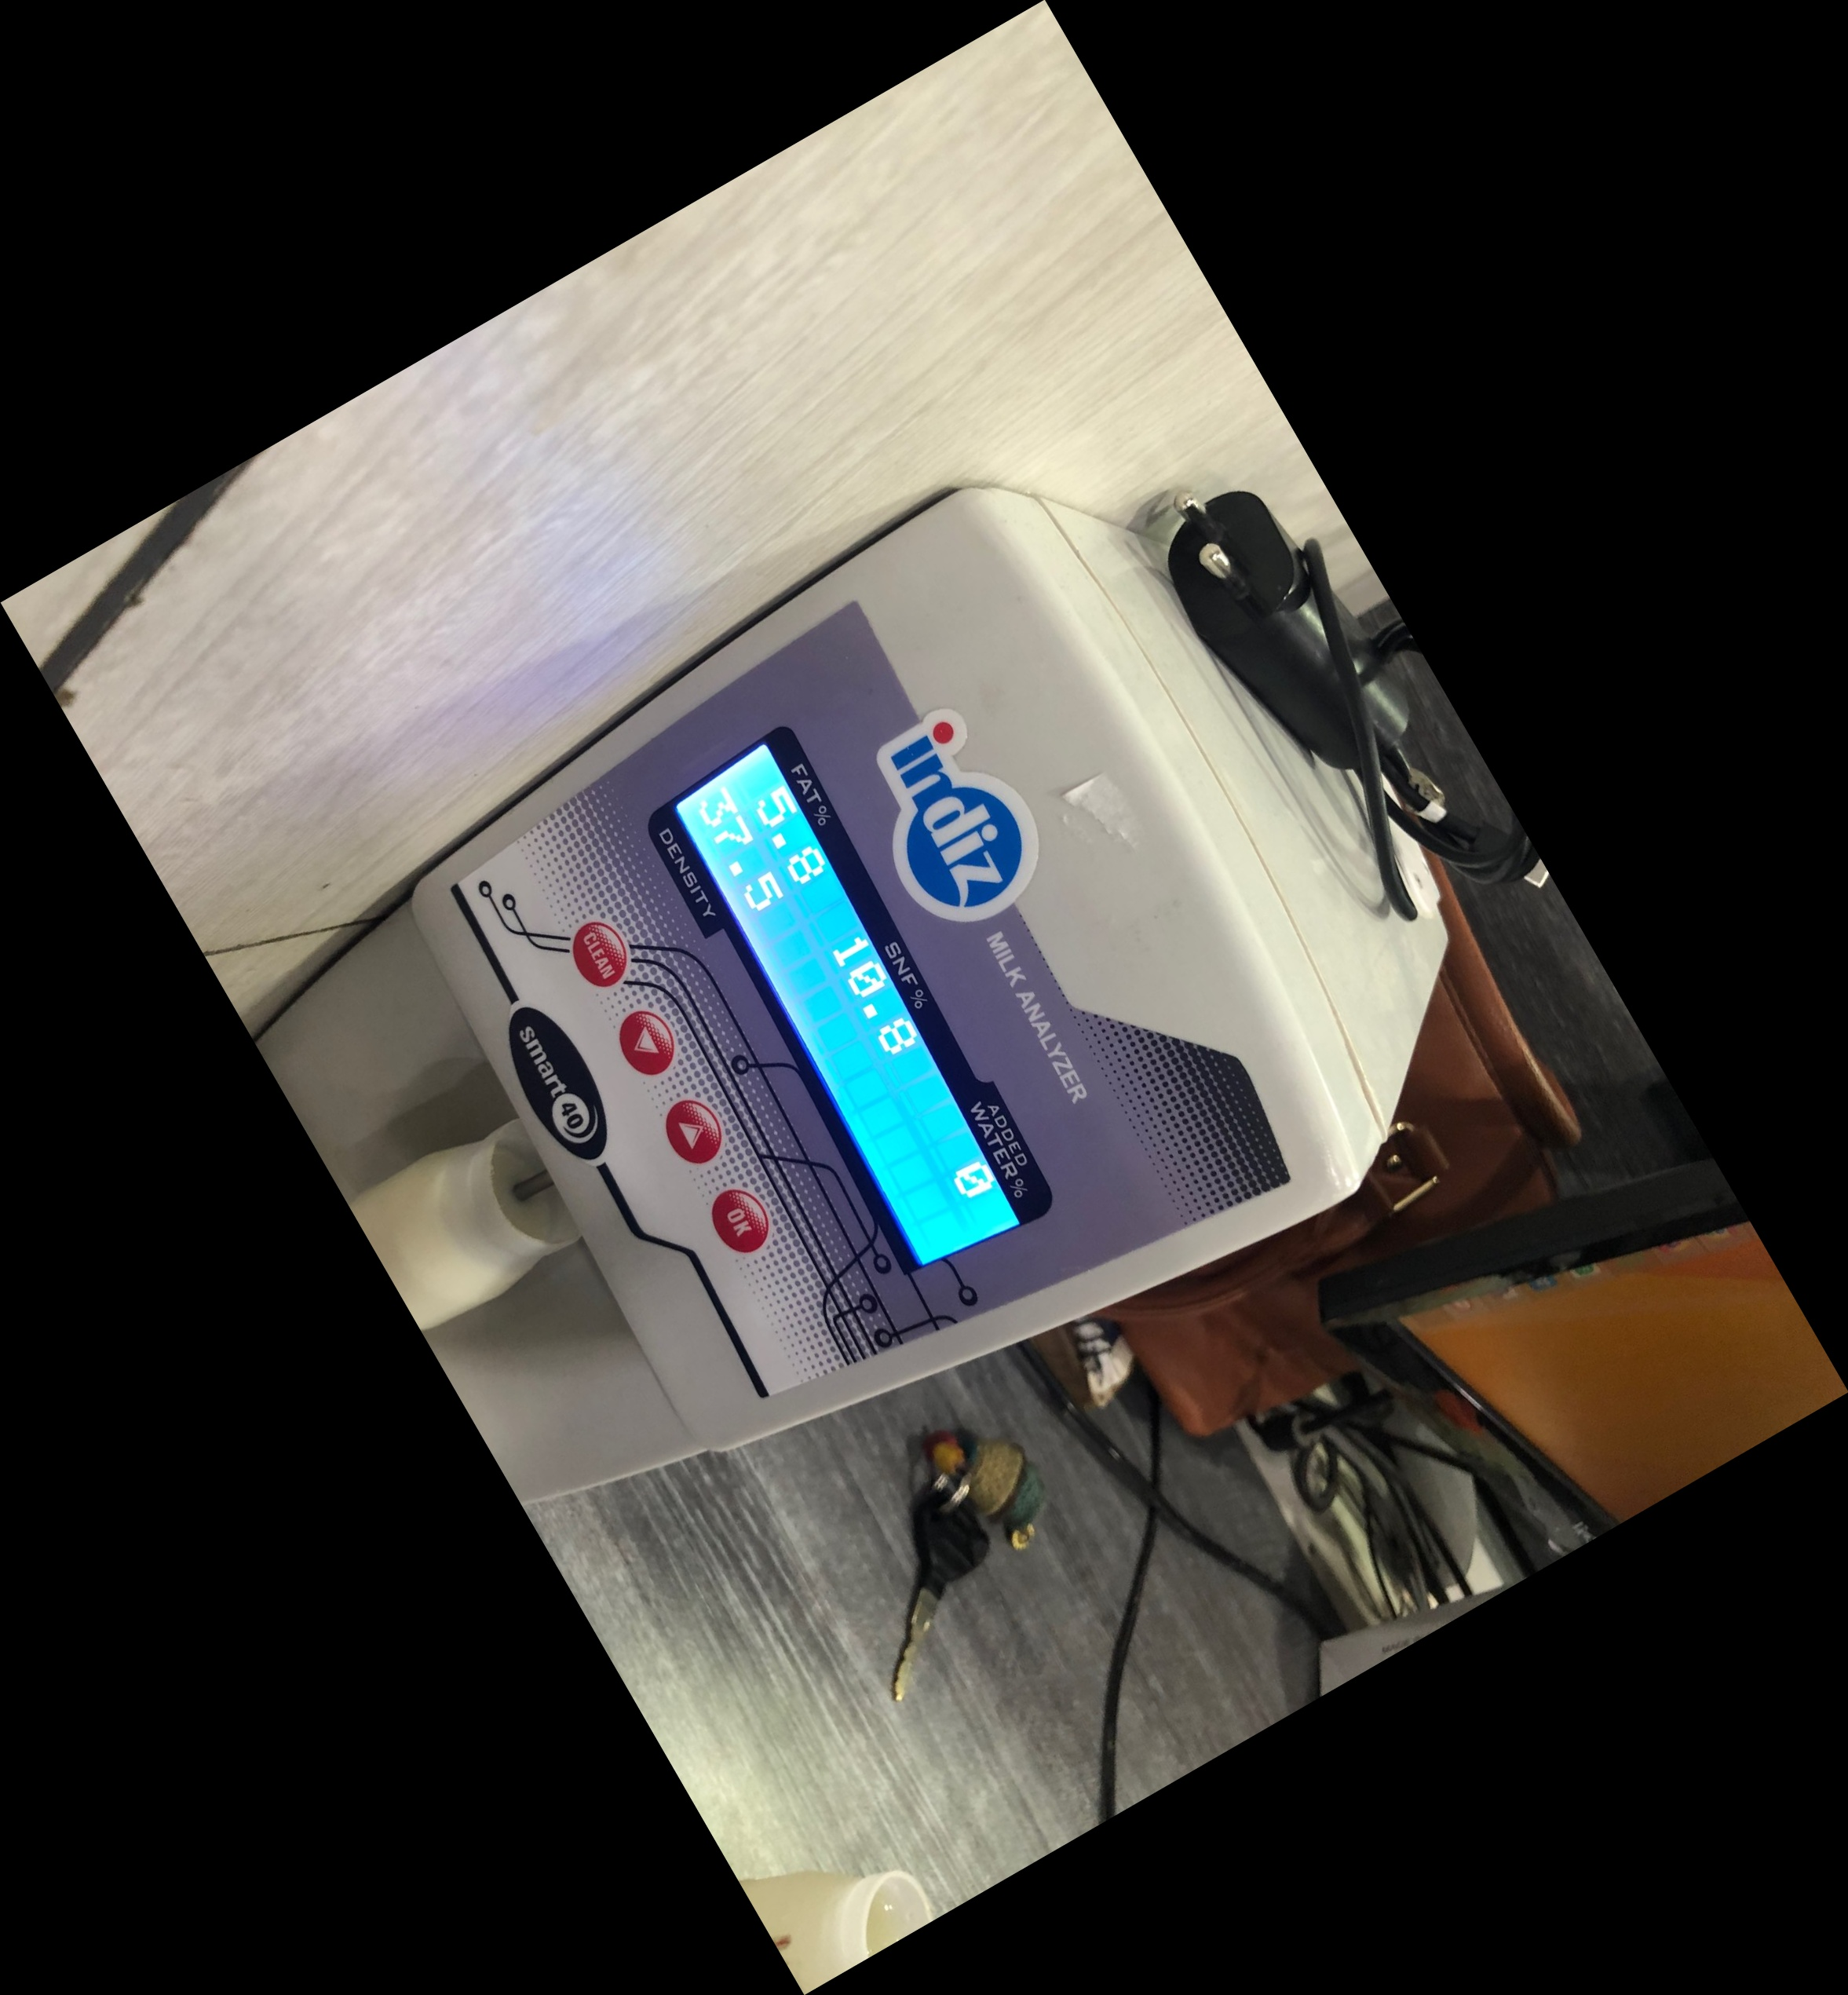lcd: (650, 707, 1066, 1309)
